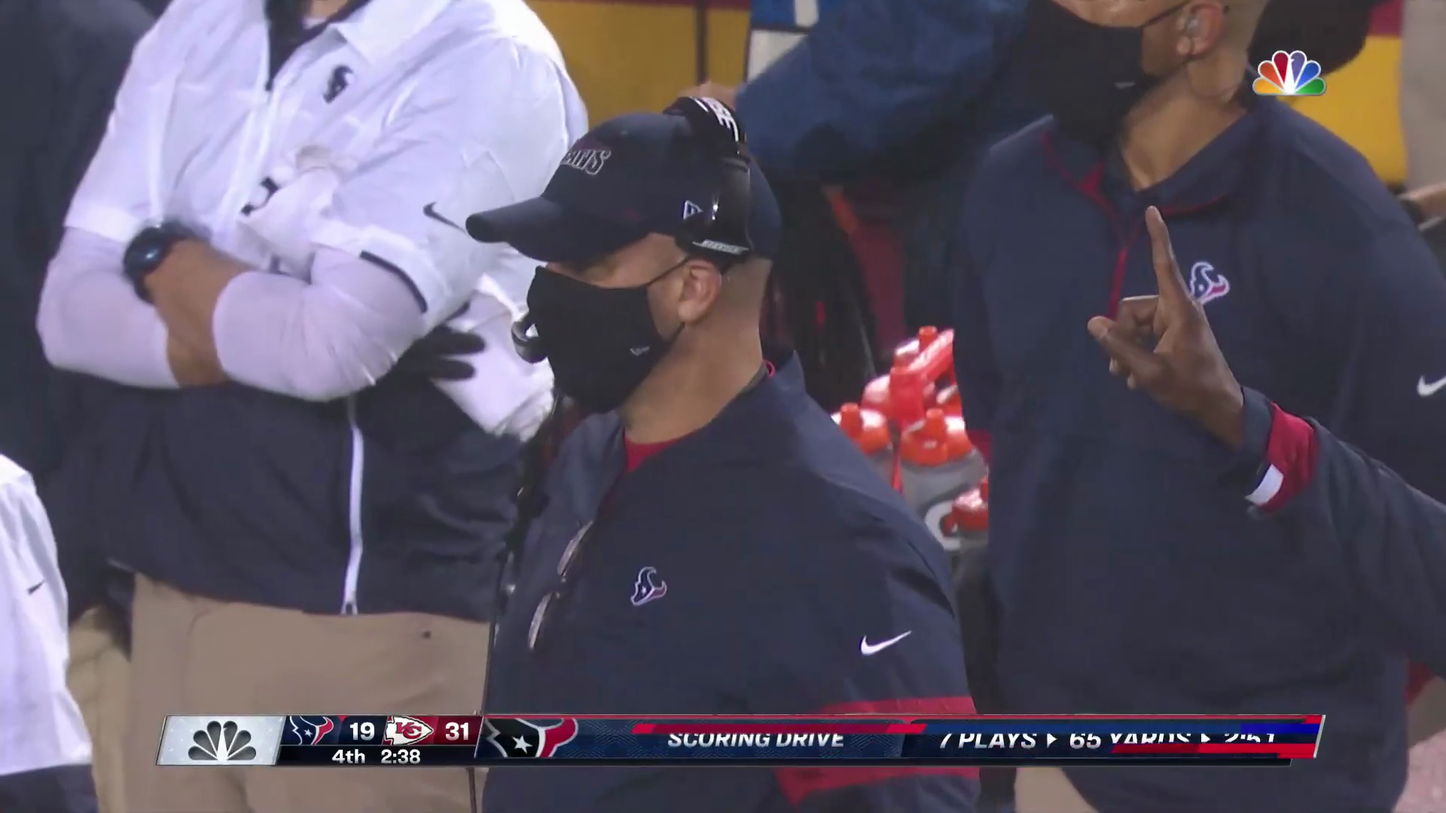Player: (0, 452, 76, 770)
